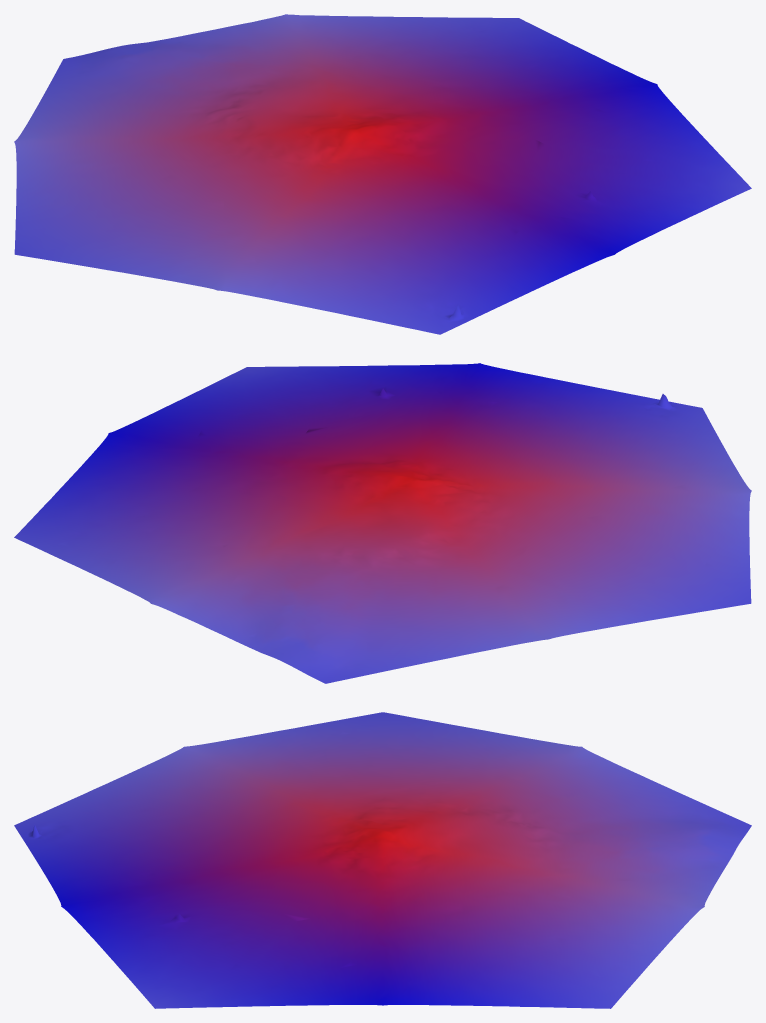
File: Hex_40.fbx
3 views of the same model, one above another, from view 1: azimuth 30°, elevation 25°; view 2: azimuth 150°, elevation 25°; view 3: azimuth 270°, elevation 25° (orthographic). The views are drawn at different scales.
Parts seen in each view (by area): view 1: Hex_40; view 2: Hex_40; view 3: Hex_40.
Part boxes in pixels (x1,y1,x2,y2): Hex_40: (14, 14, 751, 334); Hex_40: (14, 363, 751, 683); Hex_40: (14, 712, 751, 1008).
Bounding box in the file's own units: 408 × 25.42 × 415.
